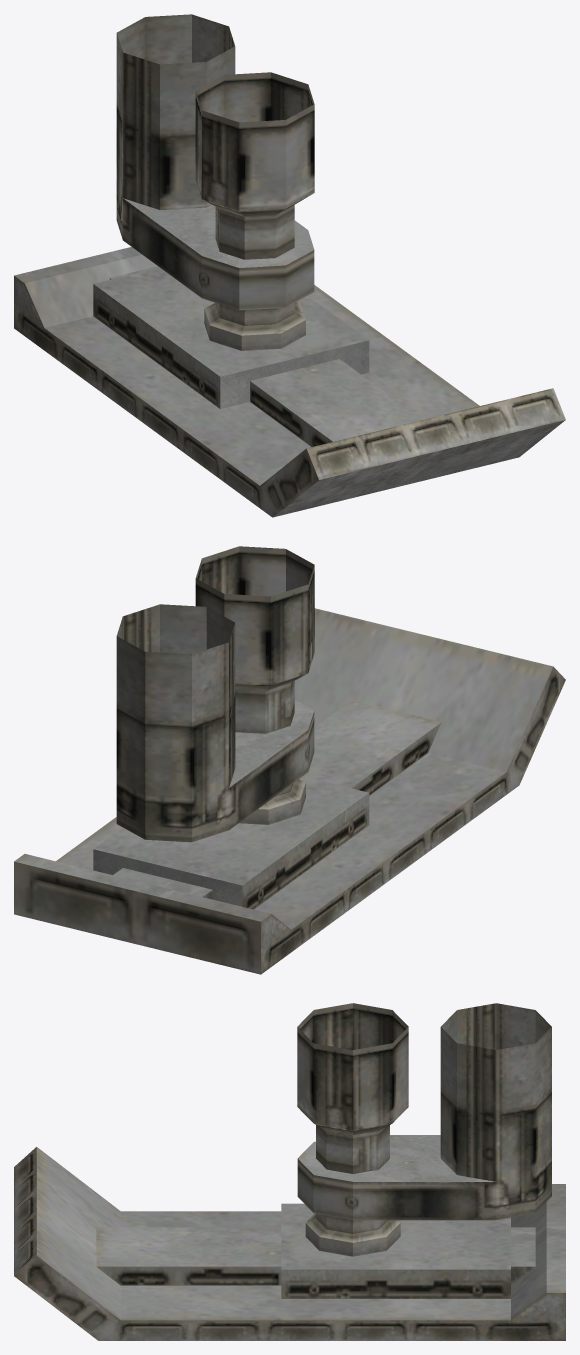
File: transport_strut_a_l0.fbx
The picture shows the model from 3 angles, top to bottom: view 1: azimuth 30°, elevation 25°; view 2: azimuth 150°, elevation 25°; view 3: azimuth 270°, elevation 25°; orthographic projection. The views are drawn at different scales.
Visible parts, largest first — view 1: mesh_node; view 2: mesh_node; view 3: mesh_node.
Part boxes in pixels (x1,y1,x2,y2): mesh_node: [14, 14, 565, 517]; mesh_node: [14, 546, 565, 974]; mesh_node: [14, 1003, 565, 1340].
Size of the model in its own units: 1.8 by 2 by 3.85.
Materials: 1 (1 with a texture image).
